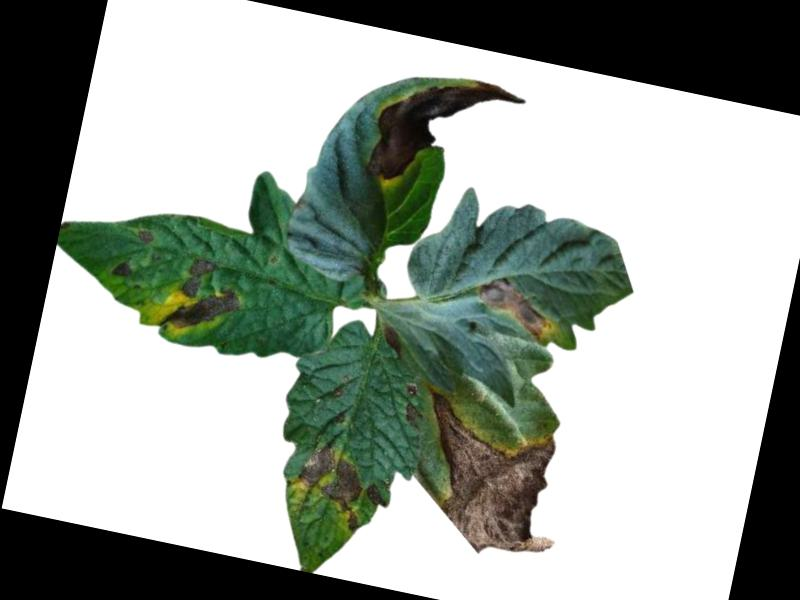Early_blight: (401, 384, 578, 567), (364, 59, 530, 204), (159, 249, 250, 342), (290, 439, 374, 533), (472, 272, 567, 348), (398, 380, 430, 432), (378, 323, 409, 358), (363, 478, 391, 510), (106, 254, 135, 283), (138, 227, 156, 243)
